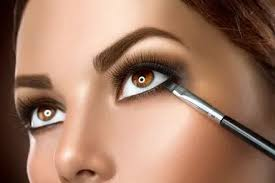e.brown: (130, 70, 155, 89)
